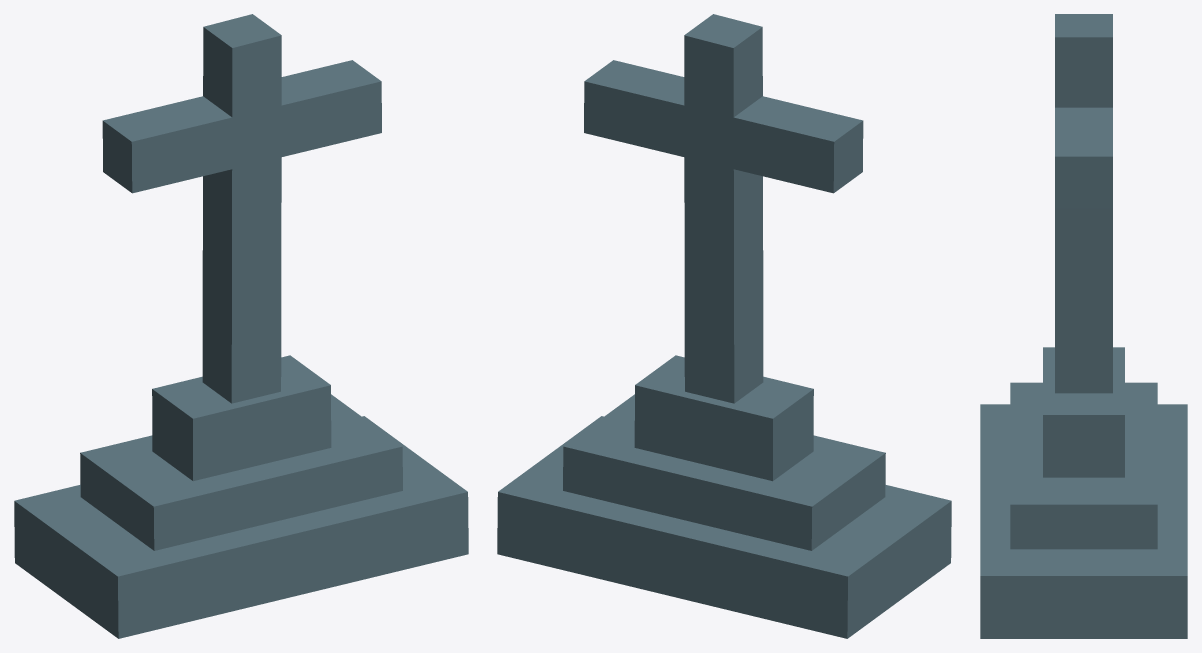
The model's file is tomb_3.fbx.
The picture shows the model from 3 angles, left to right: view 1: azimuth 30°, elevation 25°; view 2: azimuth 150°, elevation 25°; view 3: azimuth 270°, elevation 25°; orthographic projection.
Visible parts, largest first — view 1: grave_V3; view 2: grave_V3; view 3: grave_V3.
Boxes of the visible parts, left/top/right/bottom form: grave_V3: left=14, top=14, right=468, bottom=638; grave_V3: left=497, top=14, right=951, bottom=638; grave_V3: left=980, top=14, right=1187, bottom=638.
Size of the model in its own units: 2.21 by 3.18 by 1.13.
